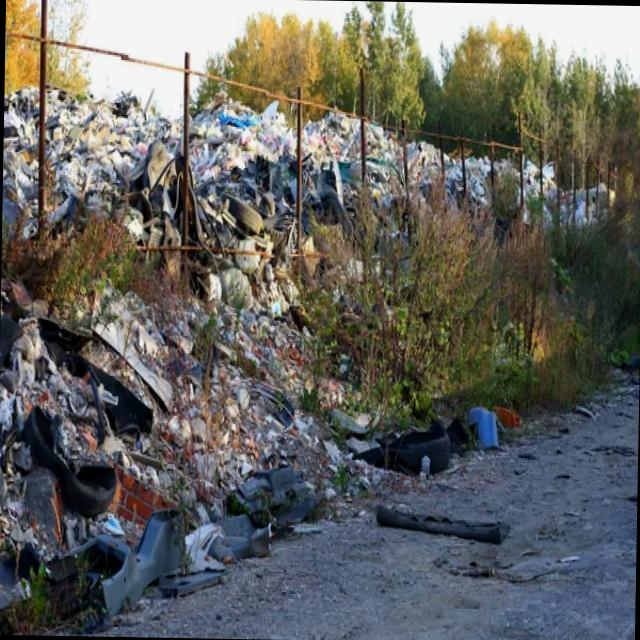garbage: (0, 30, 332, 483)
